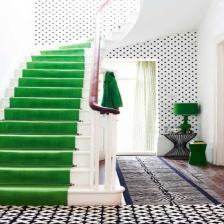green: (0, 44, 90, 206), (101, 71, 123, 110), (174, 103, 198, 115)
